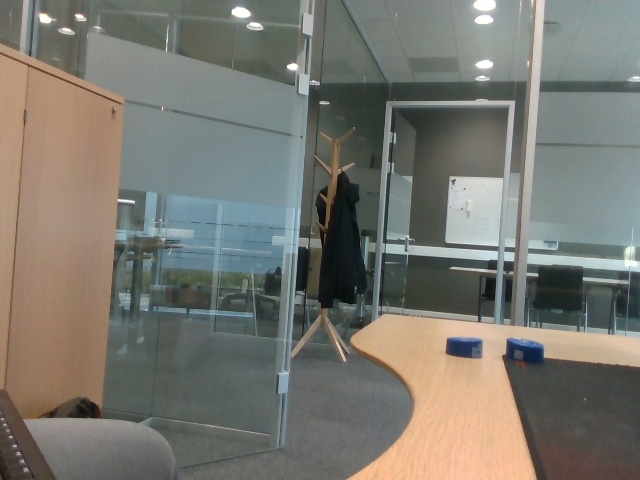alfa: (502, 328, 549, 366), (443, 331, 486, 362)
